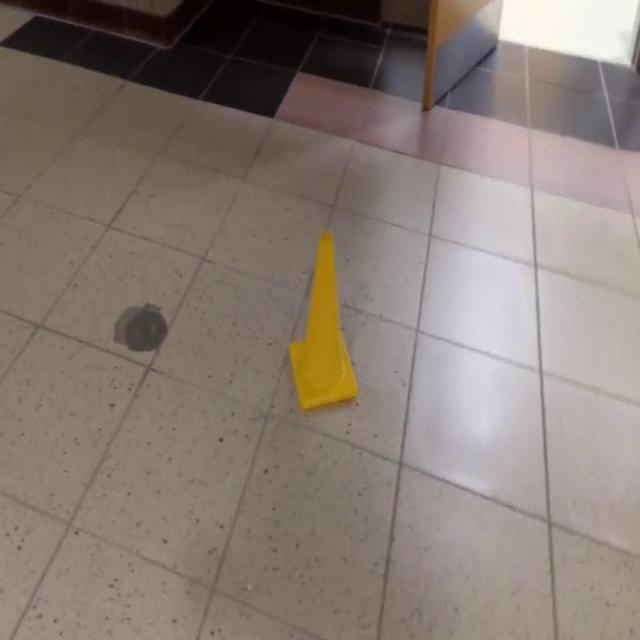frc_cone: (288, 231, 360, 414)
